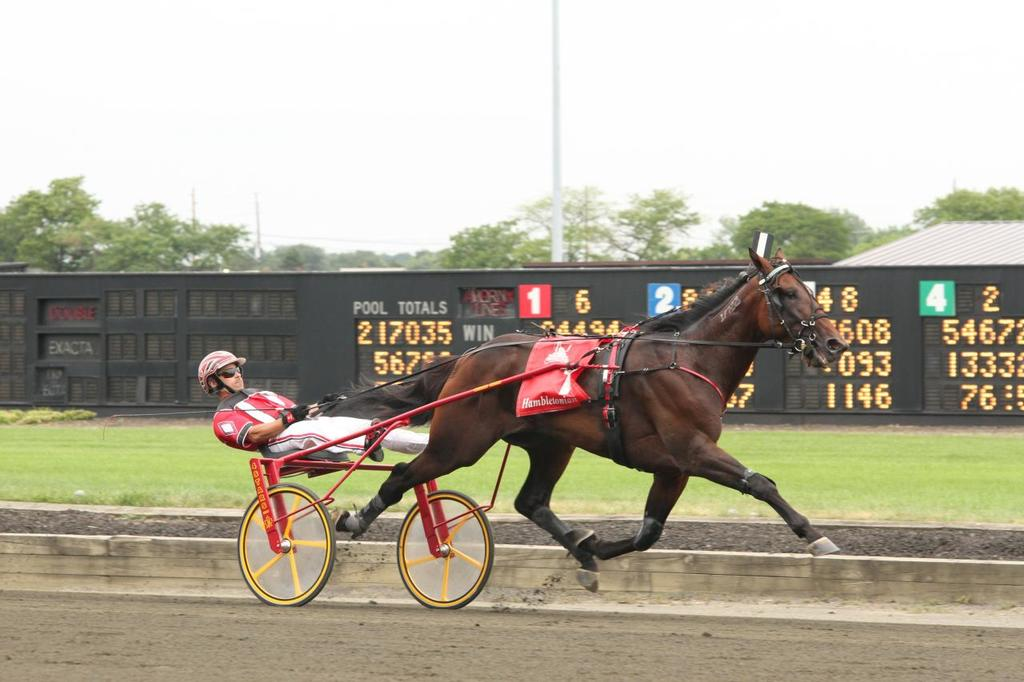horse: (335, 246, 849, 593)
